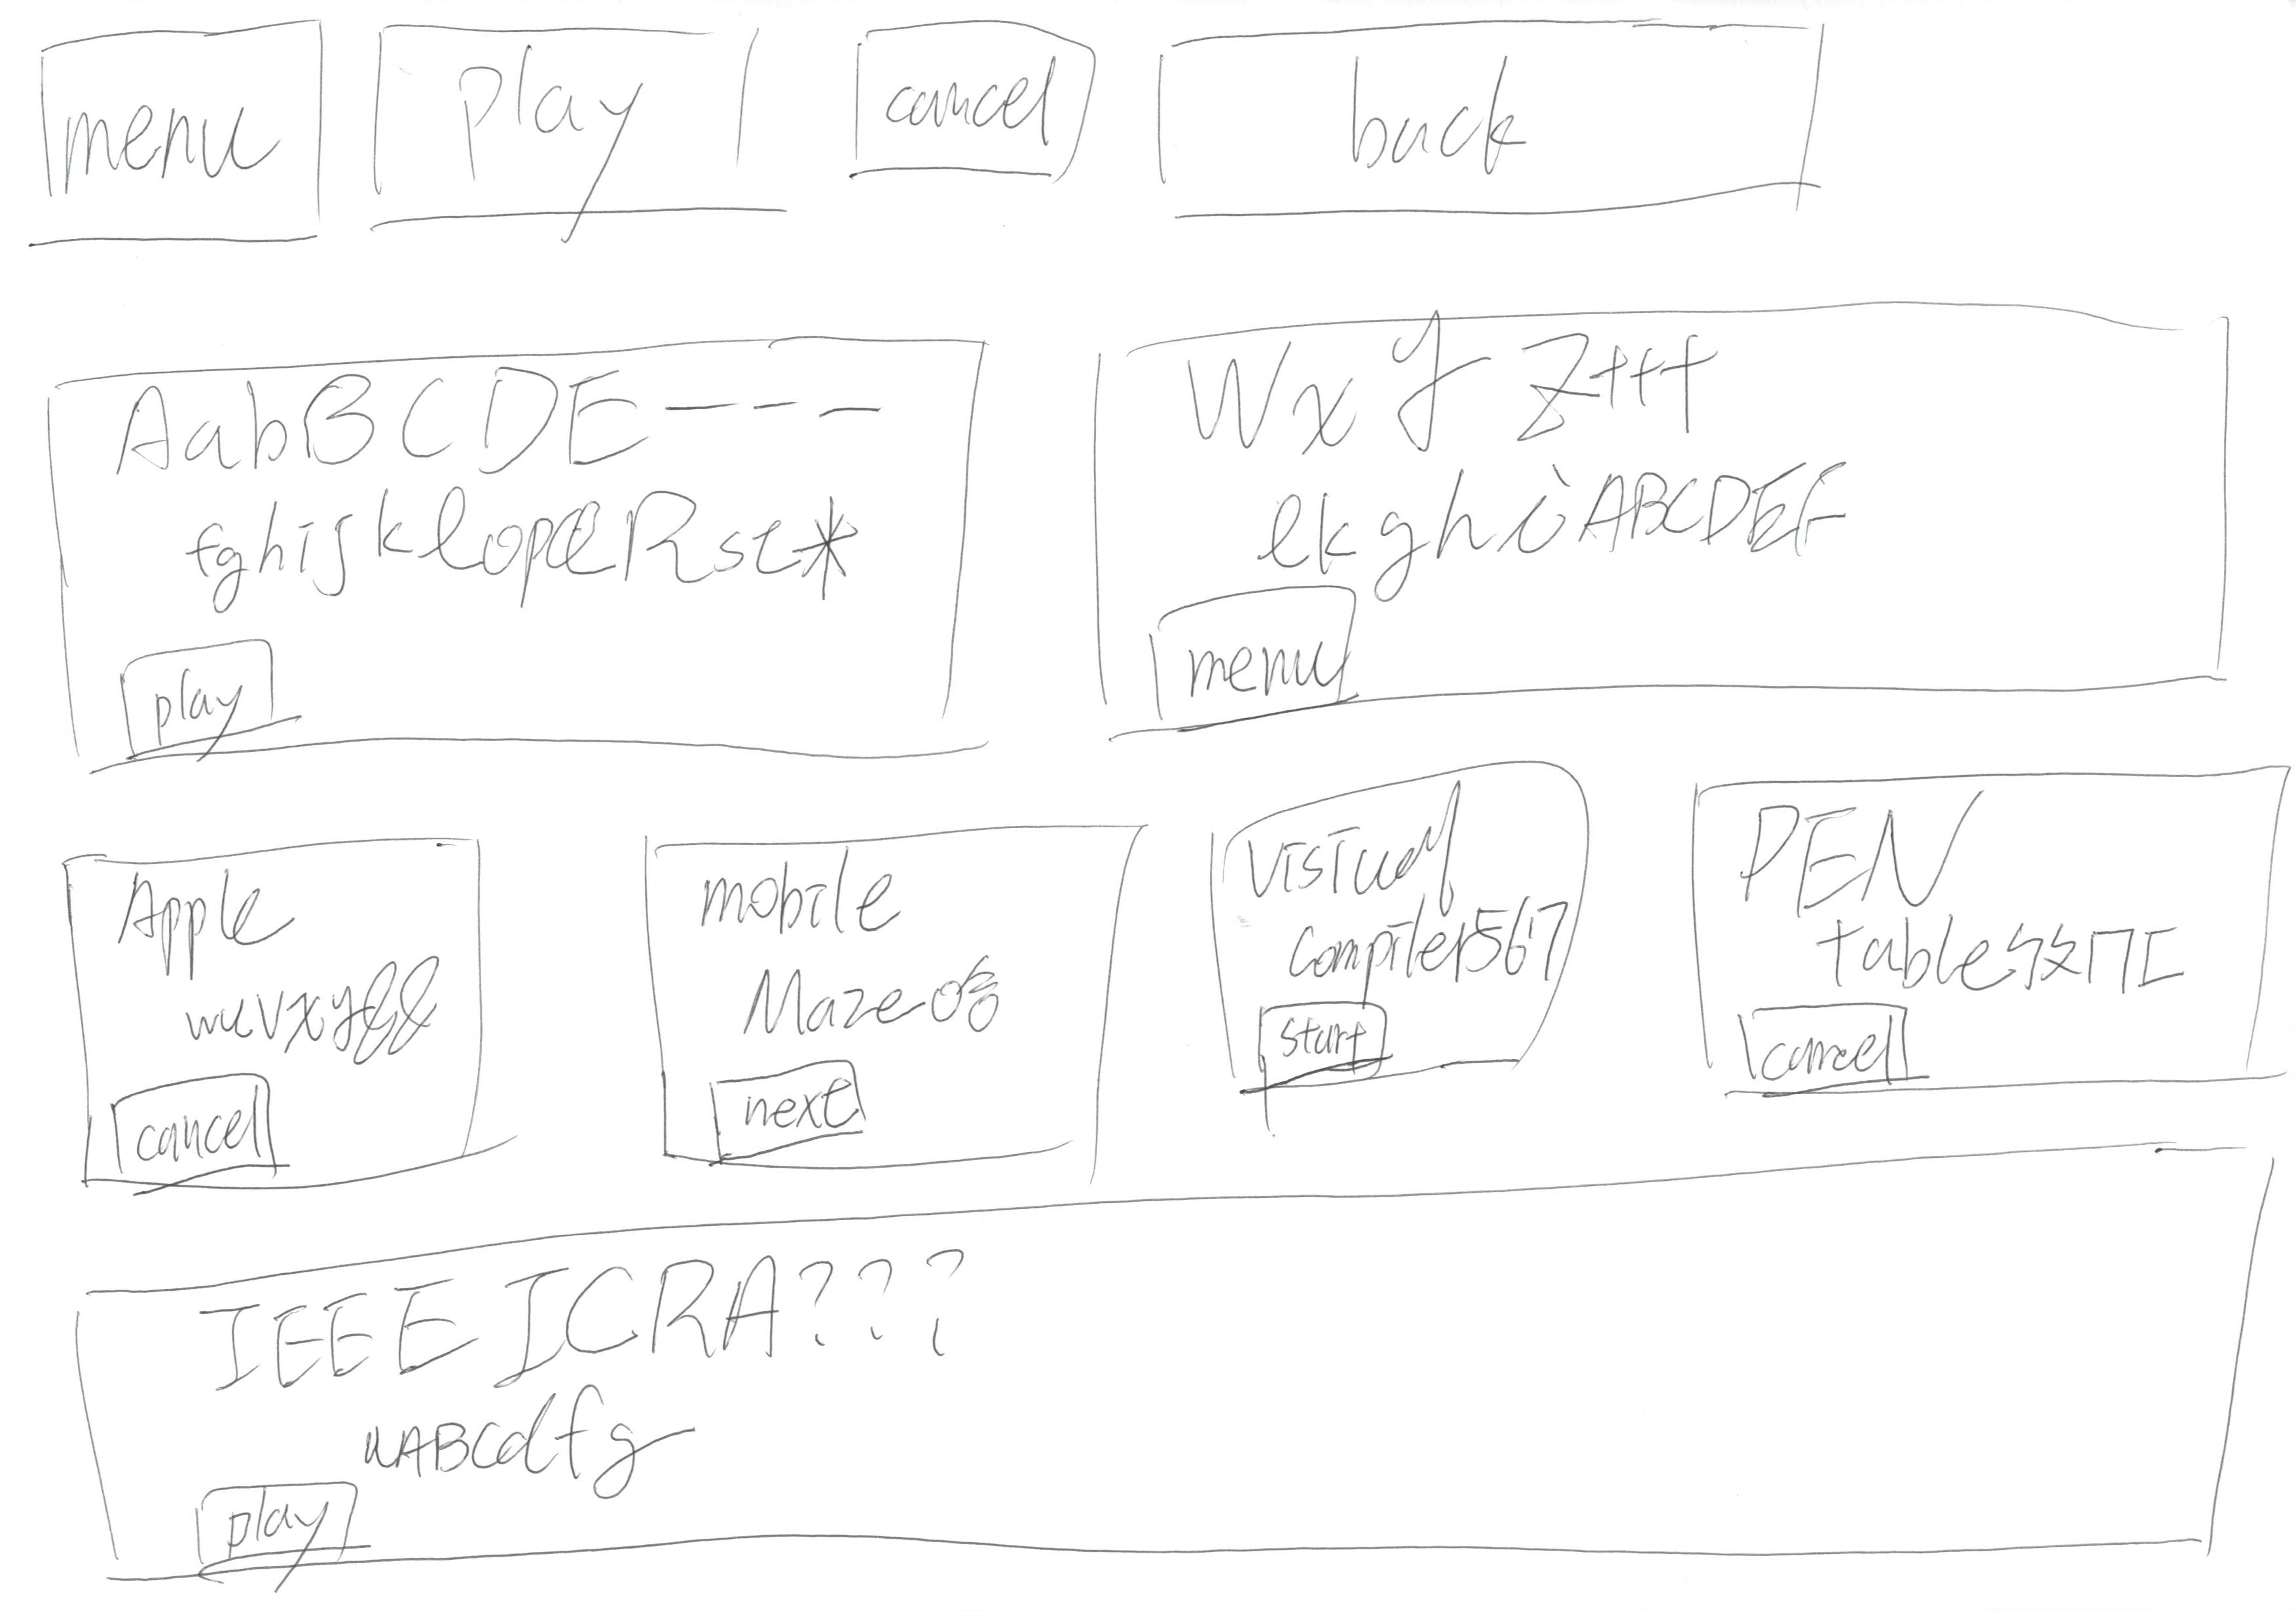back: (1146, 12, 1864, 250)
cancel: (819, 11, 1122, 228), (86, 1076, 295, 1190), (1716, 997, 1927, 1106)
double: (1072, 292, 2280, 742), (21, 311, 1057, 765)
menu: (23, 18, 339, 271), (1127, 580, 1387, 715)
next: (700, 1055, 918, 1185)
play: (364, 7, 782, 246), (98, 620, 315, 763), (185, 1473, 378, 1592)
quadruple: (1653, 763, 2296, 1160), (622, 793, 1190, 1207), (39, 808, 552, 1234), (1176, 754, 1624, 1156)
single: (4, 283, 2296, 763), (4, 726, 2296, 1204), (12, 1144, 2296, 1598), (21, 1225, 2296, 1624), (4, 0, 2296, 292)
small-title: (178, 1262, 972, 1367), (113, 362, 890, 468), (1181, 325, 1721, 446), (1747, 800, 1973, 903), (691, 863, 956, 951), (1245, 819, 1489, 902), (102, 882, 290, 963)
start: (1239, 997, 1420, 1107)
text: (1268, 453, 1872, 580), (178, 485, 860, 596), (1823, 912, 2201, 990), (371, 1394, 672, 1489), (759, 963, 1018, 1063), (186, 970, 452, 1060), (1290, 914, 1559, 981)
